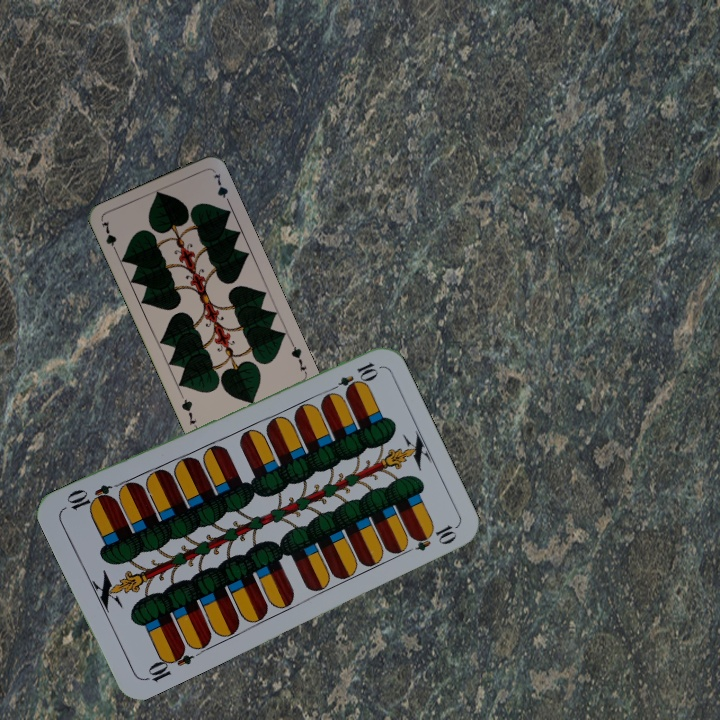E10: (140, 642, 196, 685), (324, 358, 380, 397)
G7: (98, 217, 121, 257), (287, 339, 310, 378)
